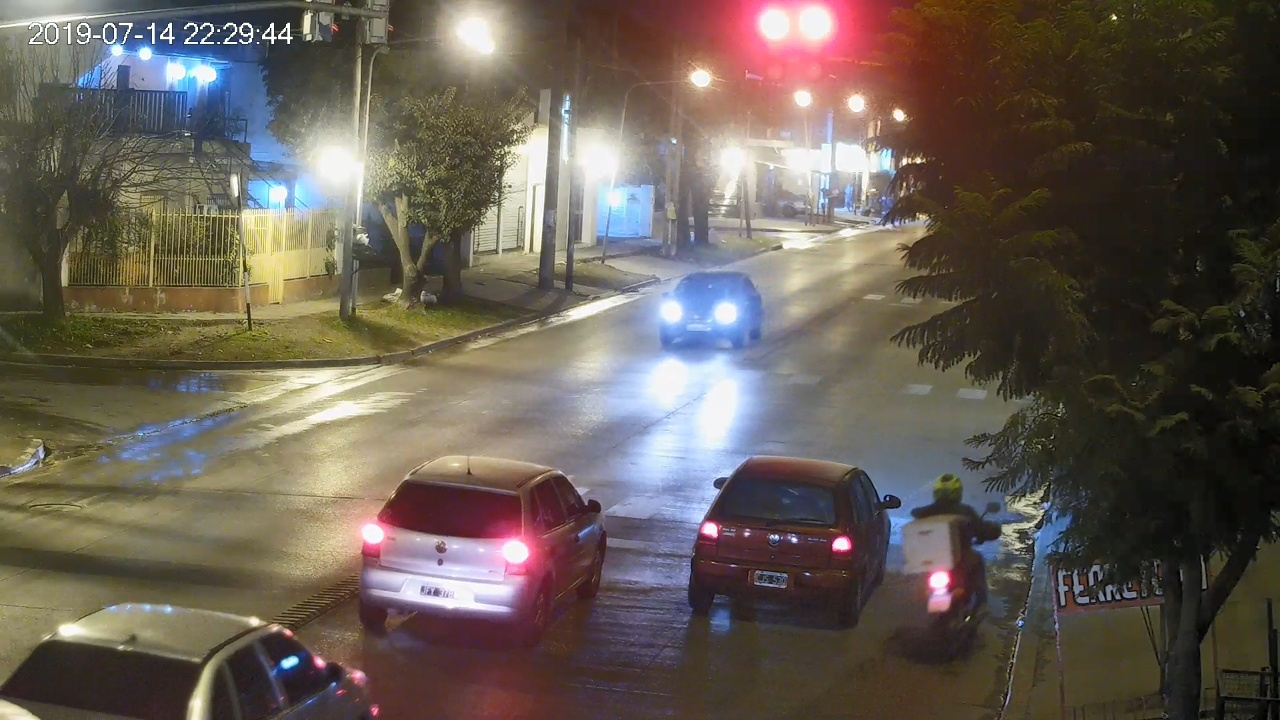car: (359, 456, 608, 642), (1, 604, 368, 720), (688, 454, 901, 626)
front car: (661, 272, 761, 345)
motorcycle: (904, 500, 1002, 650)
traffic light: (762, 8, 789, 81), (802, 9, 826, 82)
